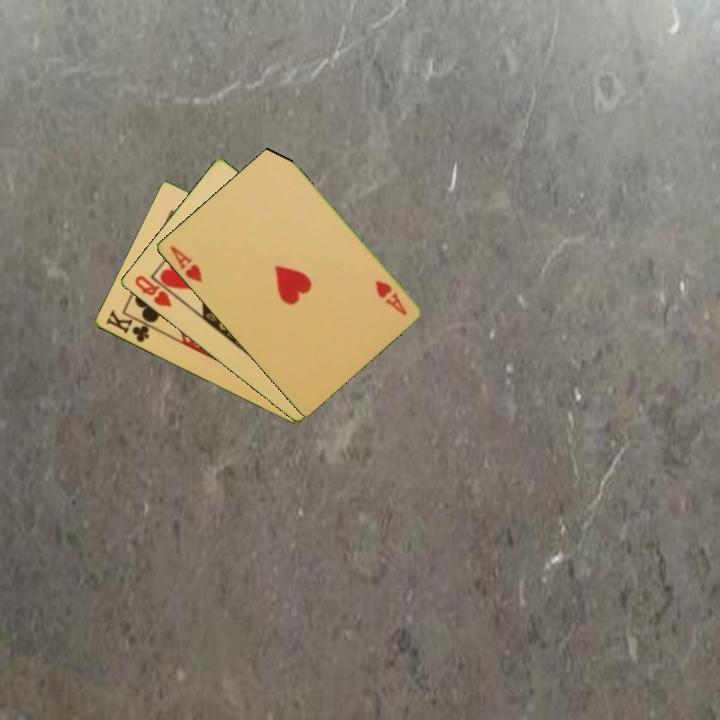Ah: (166, 242, 205, 285), (371, 276, 409, 318)
Kc: (102, 306, 158, 346)
Qh: (131, 272, 175, 310)
